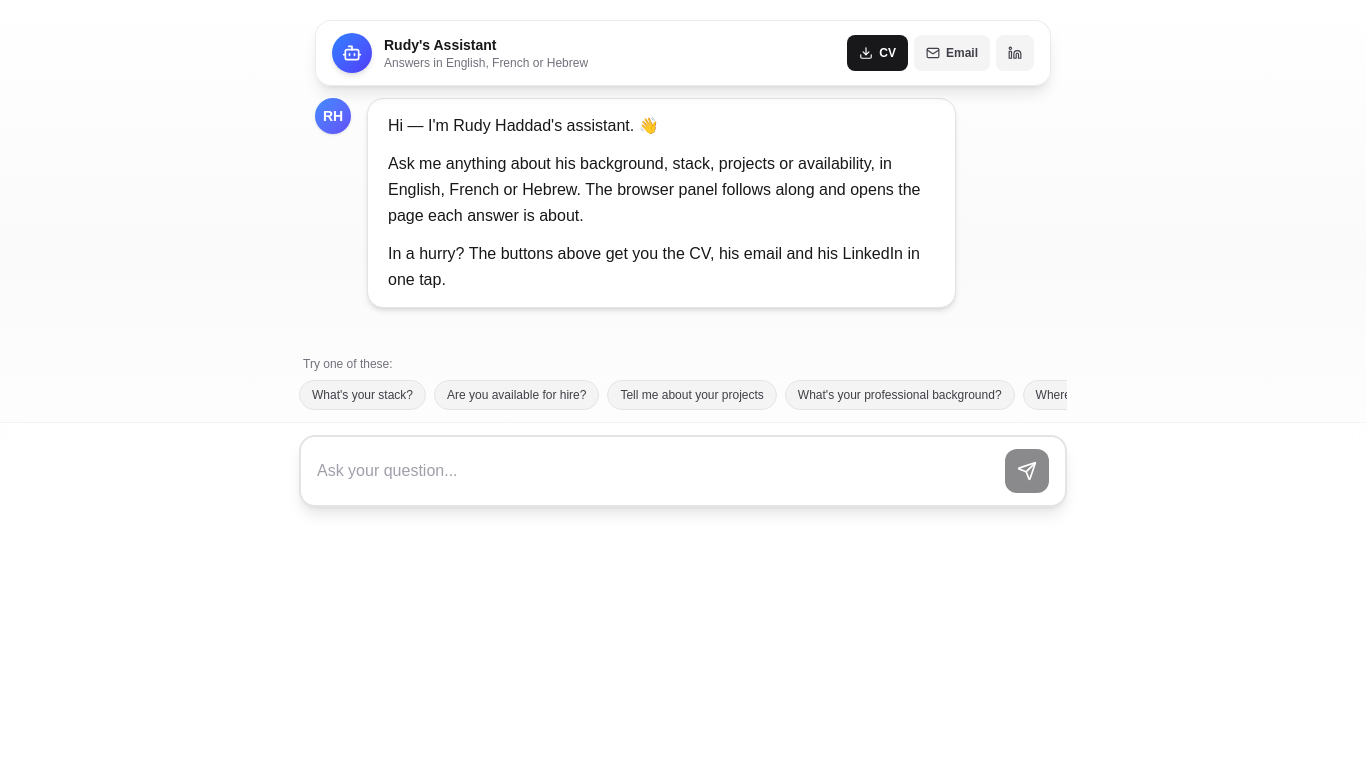
Test case: sending a message › posts the message and renders the answer
Type "What do you do?" into the field named "ask a question" at (657, 471), box x1=317 y1=459 x2=997 y2=483
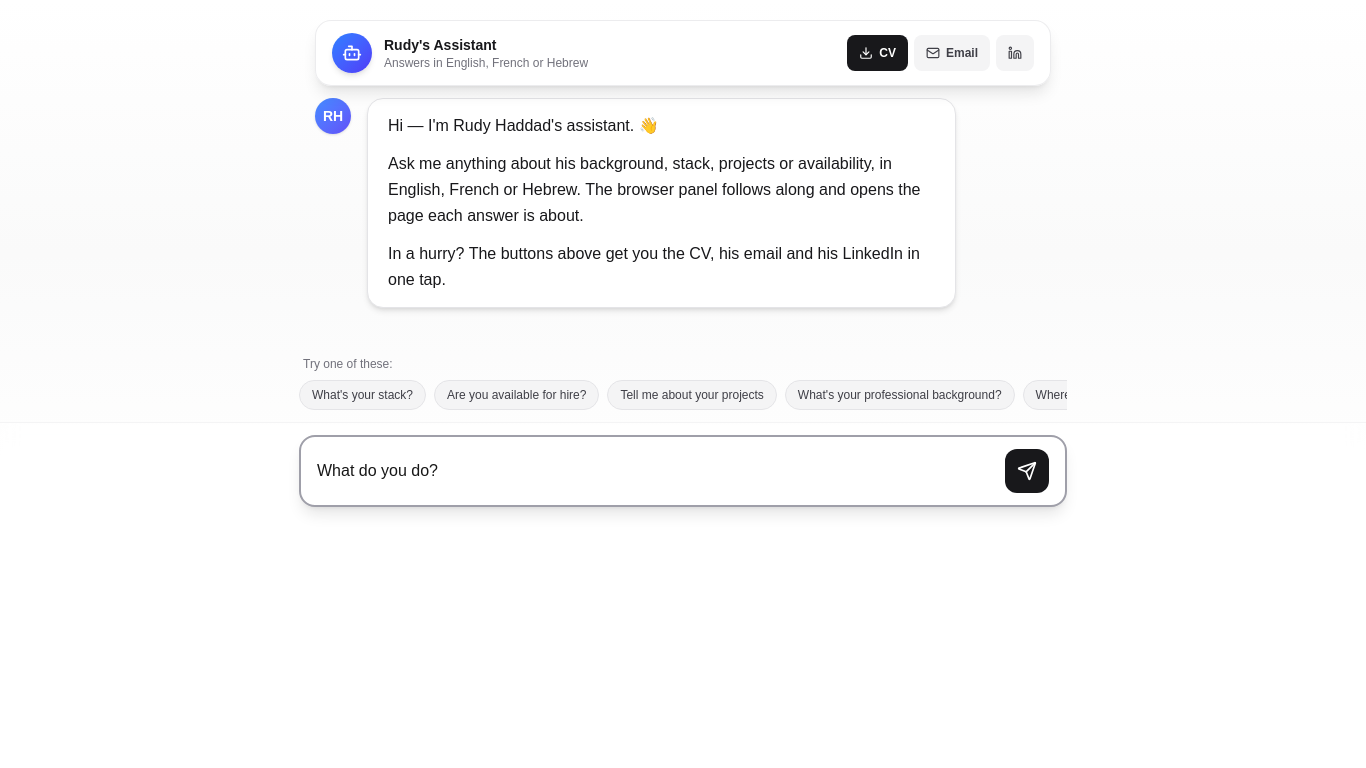
Click the button named "send message" at (1027, 471), box x1=1005 y1=449 x2=1049 y2=493
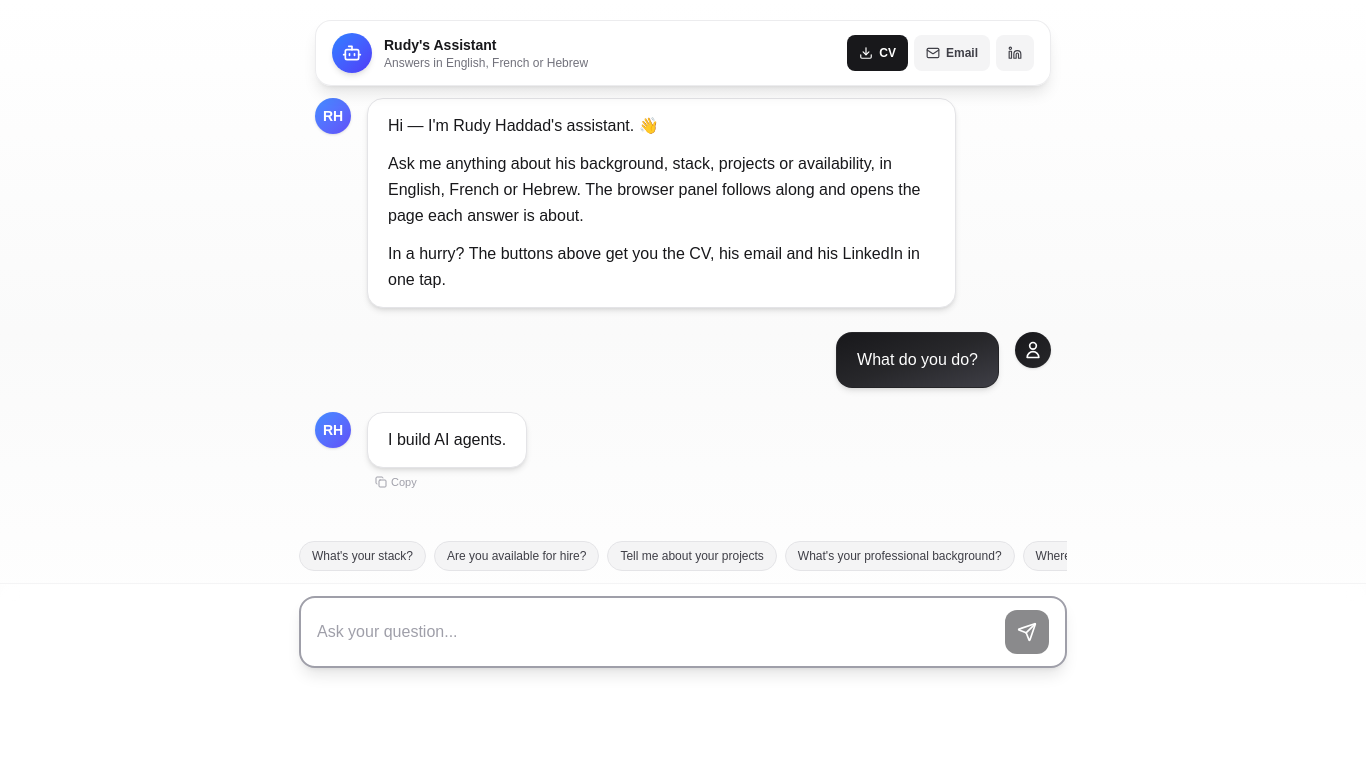
Result: the text "I build AI agents." is shown at x1=388 y1=431 x2=506 y2=448
Result: the text "What do you do?" is shown at x1=857 y1=351 x2=978 y2=368
